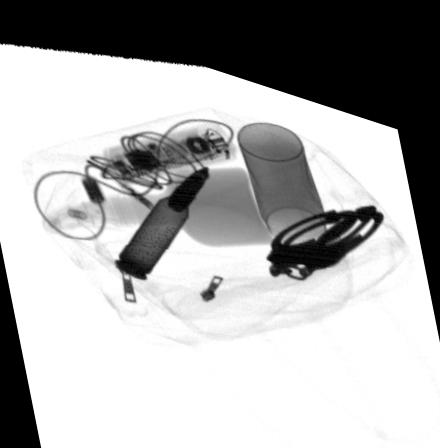Bullet: (112, 153, 208, 269)
HandCuffs: (263, 180, 384, 261)
